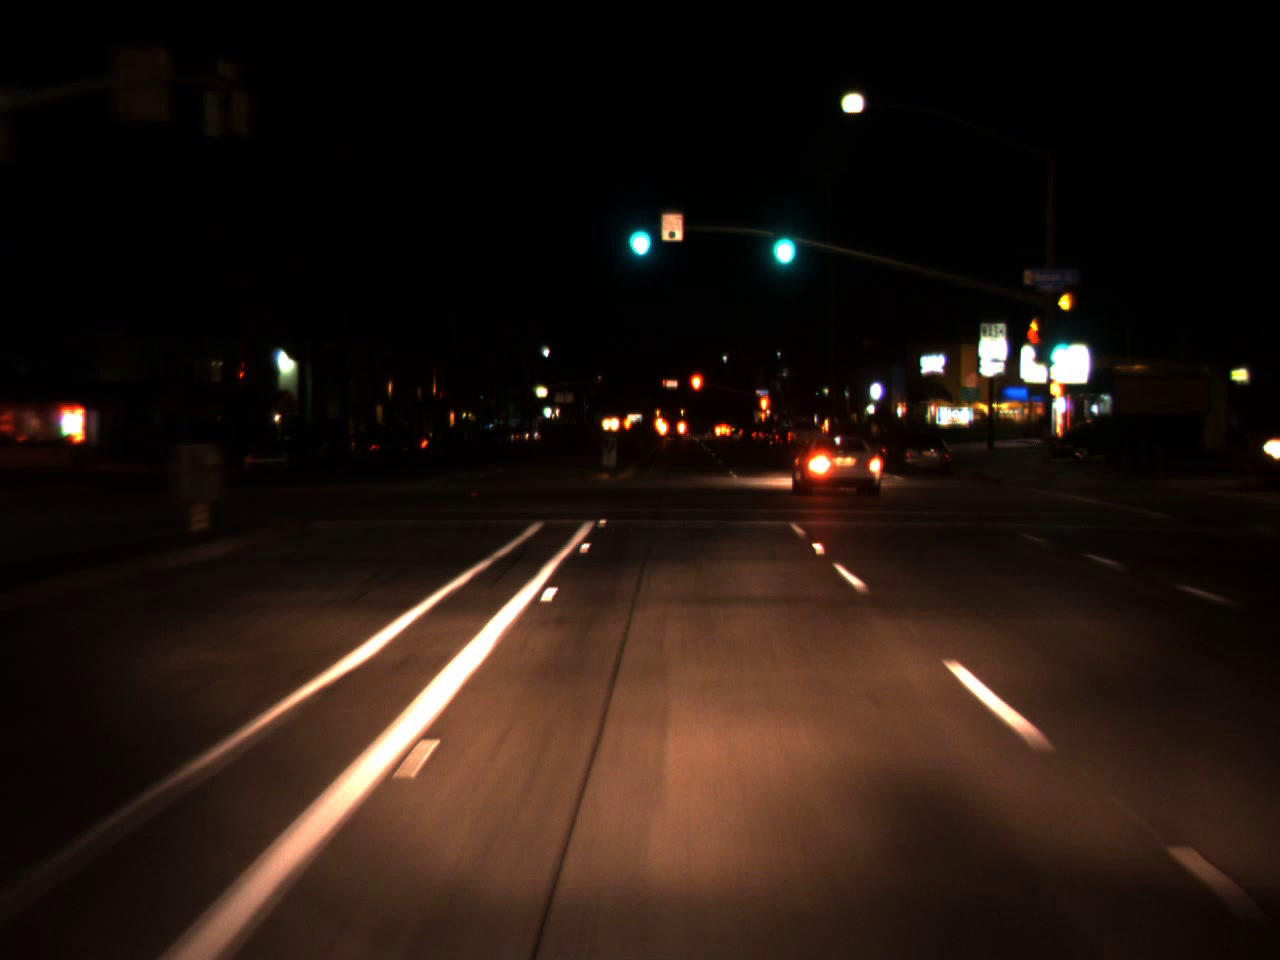go: (763, 201, 800, 276), (620, 197, 656, 266), (1041, 327, 1073, 369)
stop: (688, 370, 703, 413), (758, 392, 771, 429)
